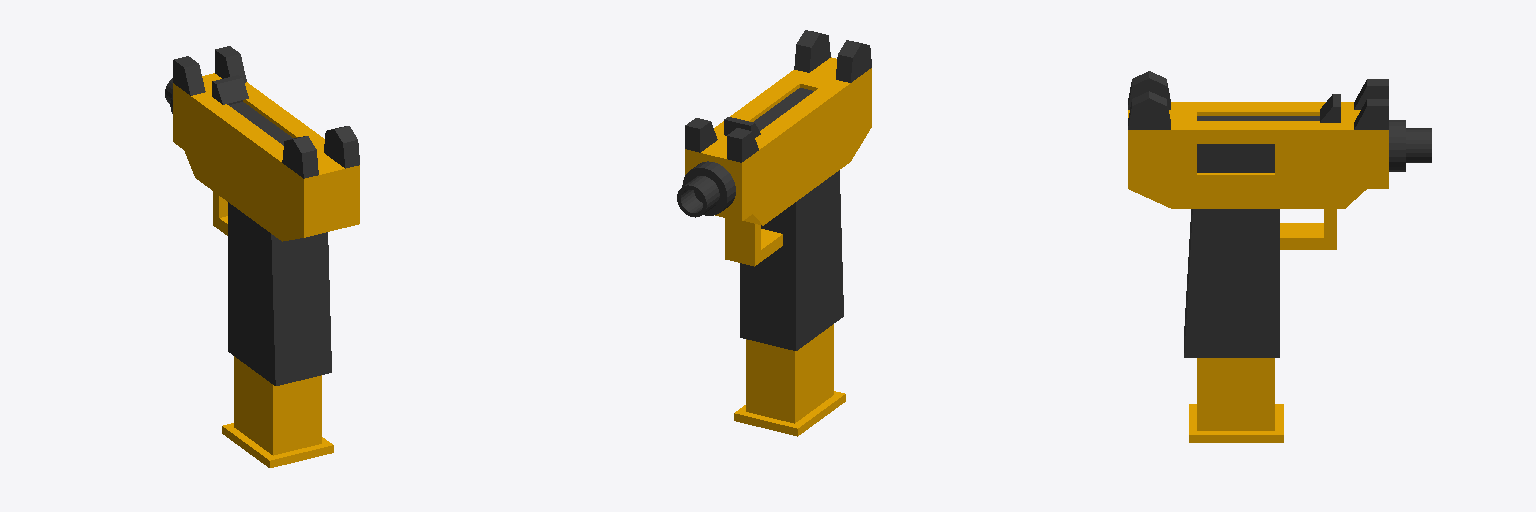
The model's file is uziGold.obj.
The picture shows the model from 3 angles: view 1: azimuth 30°, elevation 25°; view 2: azimuth 150°, elevation 25°; view 3: azimuth 270°, elevation 25°; orthographic projection.
Visible parts, largest first — view 1: Group; view 2: Group; view 3: Group.
Boxes of the visible parts, x1=… form: Group: x1=165, y1=46, x2=359, y2=467; Group: x1=677, y1=30, x2=871, y2=436; Group: x1=1128, y1=71, x2=1431, y2=442.
Size of the model in its own units: 0.0651 by 0.333 by 0.2683.